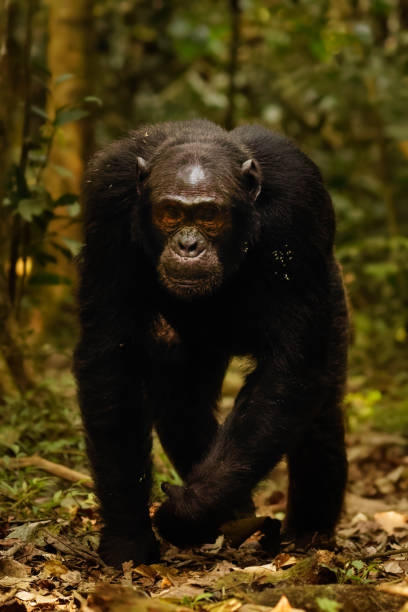chimpanzee: (98, 102, 292, 328)
